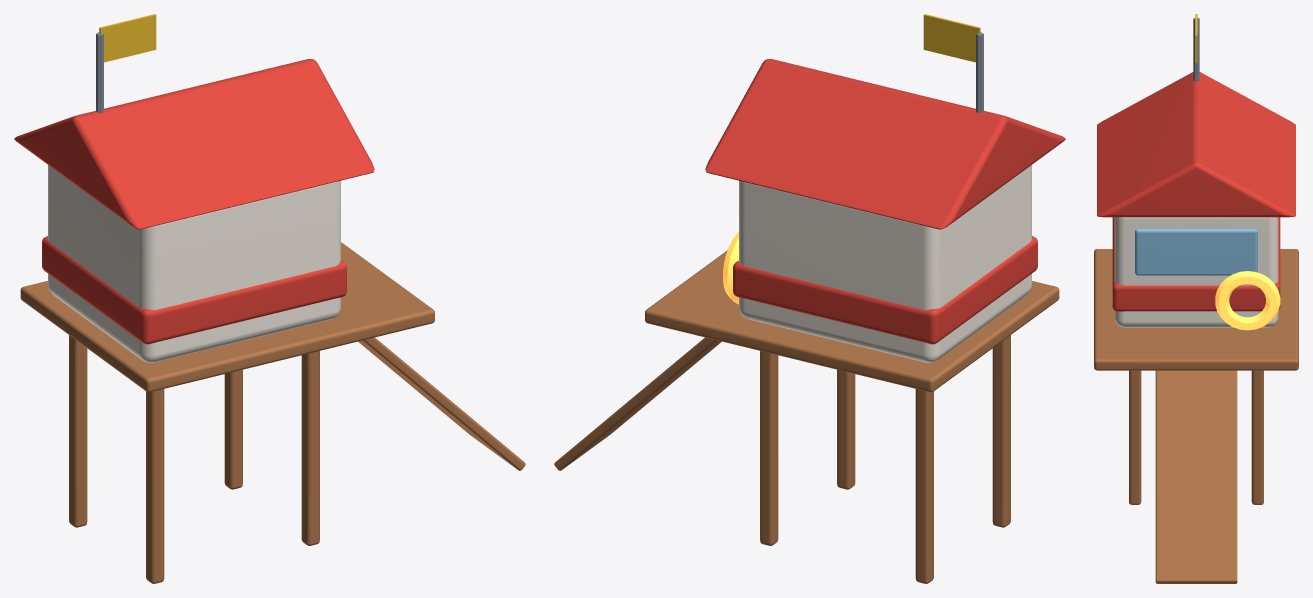
Rendered from lifeguard_tower.glb.
3 renders of one model, left to right at view 1: azimuth 30°, elevation 25°; view 2: azimuth 150°, elevation 25°; view 3: azimuth 270°, elevation 25°, orthographic. The views are drawn at different scales.
Visible parts, largest first — view 1: lifeguard_tower; view 2: lifeguard_tower; view 3: lifeguard_tower.
Part boxes in pixels (left/top/right/bottom): lifeguard_tower: left=14, top=14, right=525, bottom=583; lifeguard_tower: left=554, top=14, right=1065, bottom=583; lifeguard_tower: left=1094, top=14, right=1298, bottom=583.
Size of the model in its own units: 3.86 by 4.55 by 2.
1 material, 1 textured.
